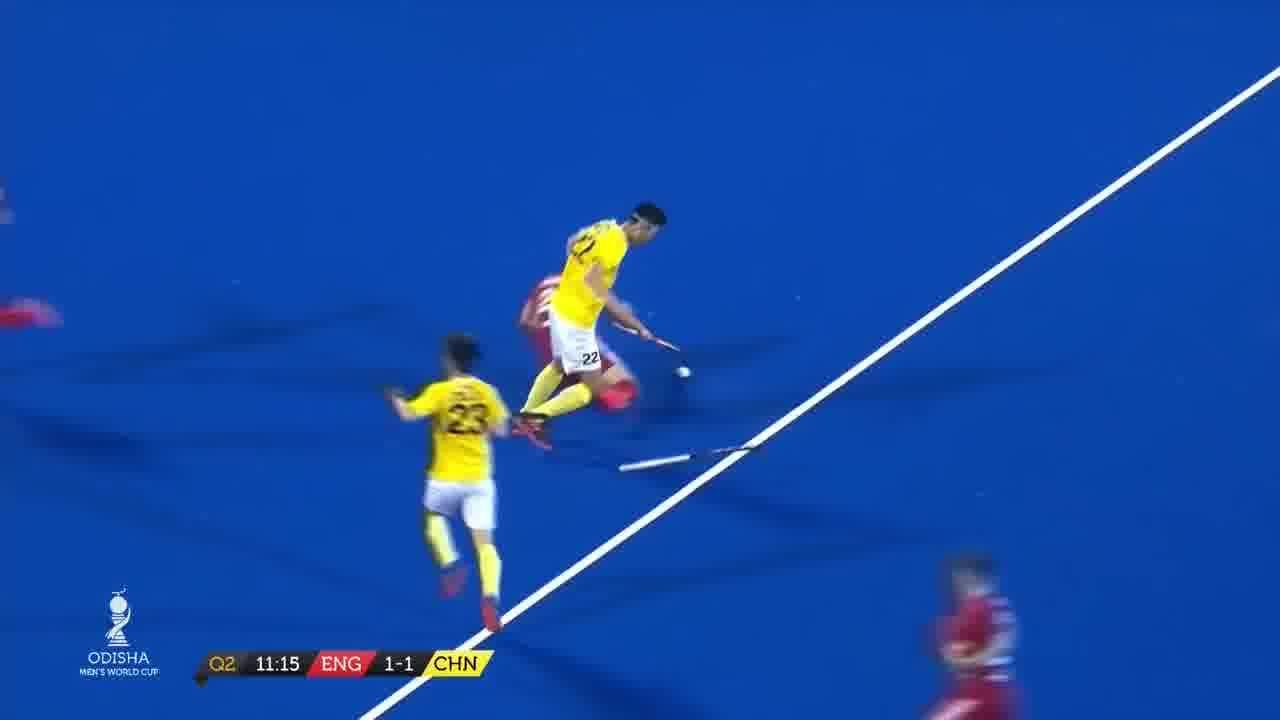ball: (676, 360, 694, 376)
